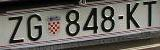-: (118, 14, 124, 20)
4: (83, 7, 98, 34)
8: (65, 9, 81, 37), (101, 6, 115, 32)
G: (26, 14, 43, 41)
K: (126, 3, 141, 29)
T: (143, 0, 158, 27)
Z: (7, 16, 25, 43)
